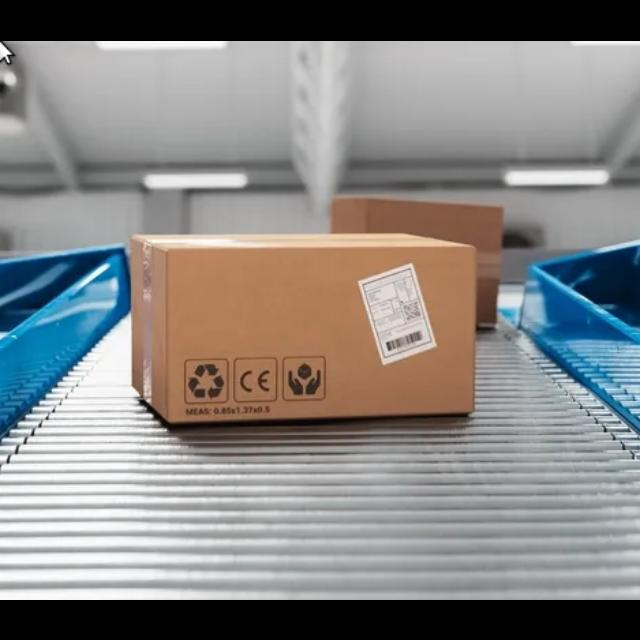box: (130, 232, 478, 424), (332, 196, 504, 258)
